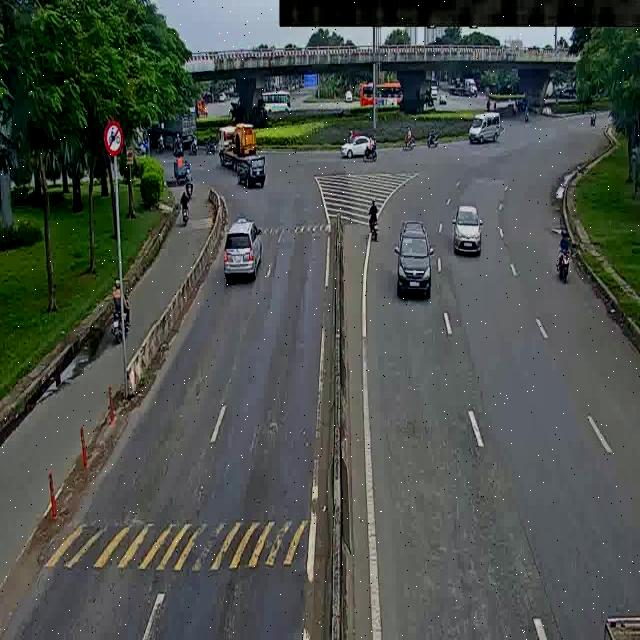bus: (350, 75, 423, 106), (246, 90, 288, 116)
car: (396, 216, 437, 317), (223, 214, 271, 287), (447, 199, 496, 268), (229, 154, 275, 191), (469, 109, 499, 150), (339, 132, 371, 168)
motorbike: (548, 235, 584, 291), (362, 198, 384, 250), (398, 121, 421, 155), (422, 131, 448, 157), (171, 187, 192, 214), (180, 170, 196, 192)
truck: (218, 126, 265, 188), (443, 69, 482, 99)
